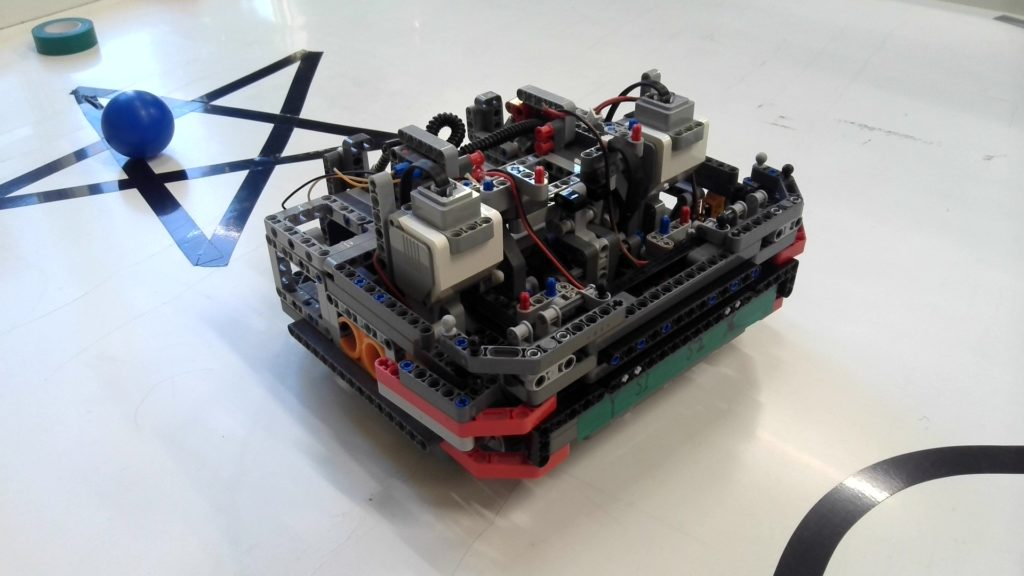Robot: (254, 68, 807, 487)
